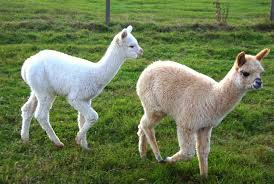alpaca: (134, 48, 272, 176), (18, 24, 144, 150)
